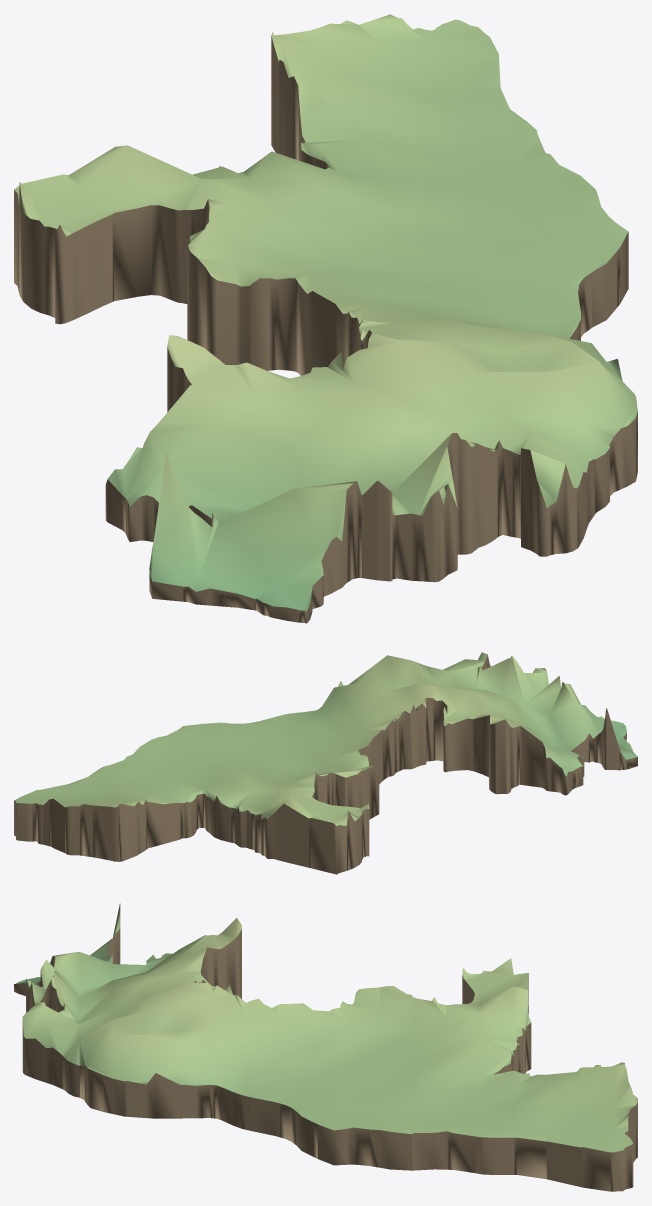
Rendered from COG.glb.
3 renders of one model, top to bottom at view 1: azimuth 30°, elevation 25°; view 2: azimuth 150°, elevation 25°; view 3: azimuth 270°, elevation 25°, orthographic. The views are drawn at different scales.
Visible parts, largest first — view 1: COG; view 2: COG; view 3: COG.
Part boxes in pixels (x1,y1,x2,y2): COG: [14, 14, 637, 623]; COG: [14, 652, 637, 874]; COG: [14, 903, 637, 1191].
Size of the model in its own units: 1.26 by 0.2261 by 1.46.
